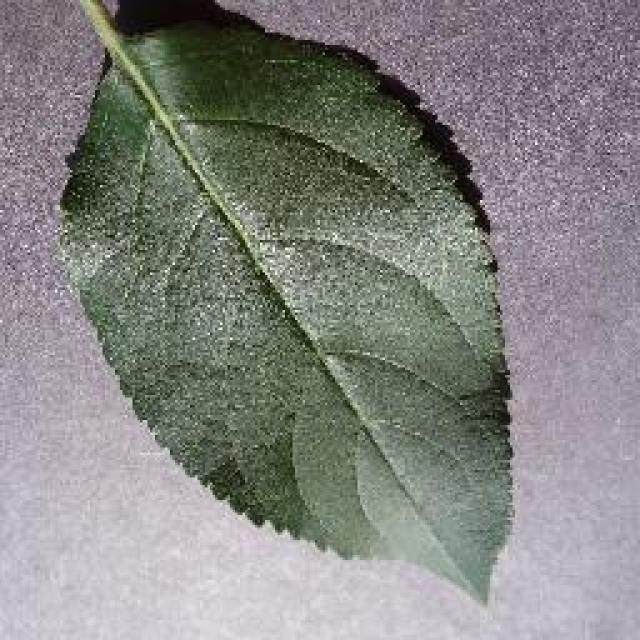apple healthy: (50, 0, 520, 605)
